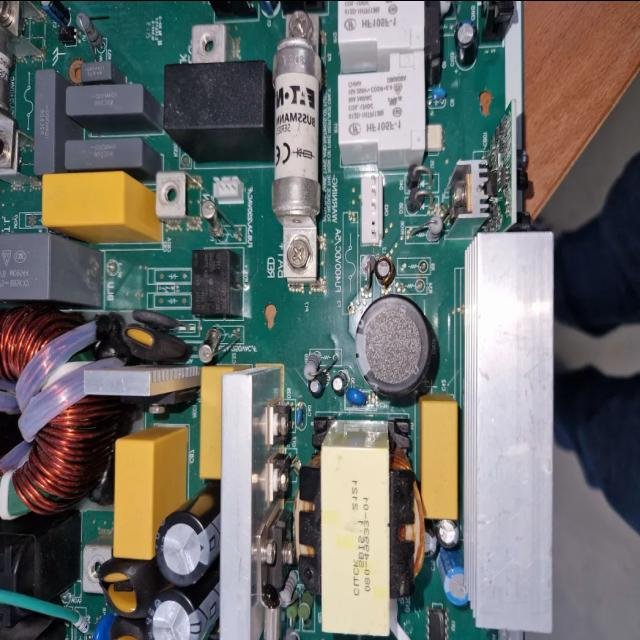A: (1, 304, 112, 520)
B: (273, 10, 319, 284), (0, 0, 40, 185)
C: (356, 294, 432, 394), (156, 504, 220, 584), (147, 586, 212, 640)
